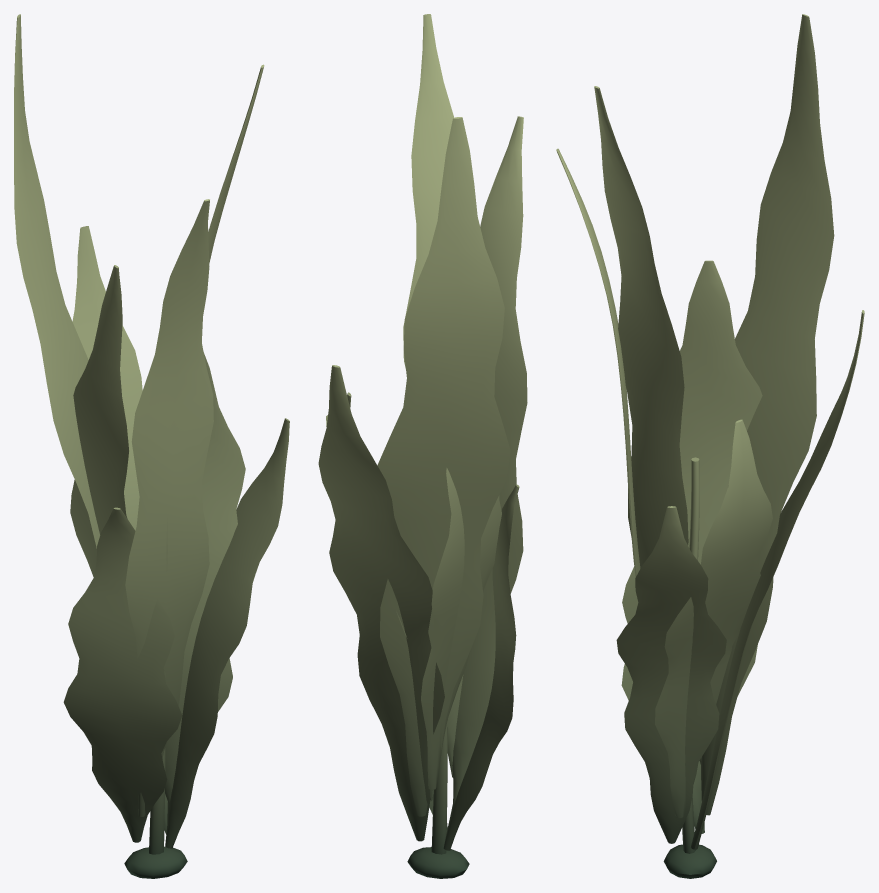
Rendered from kelp.glb.
3 views of the same model, side by side, from view 1: azimuth 30°, elevation 25°; view 2: azimuth 150°, elevation 25°; view 3: azimuth 270°, elevation 25° (orthographic). The views are drawn at different scales.
Visible parts, largest first — view 1: Pelagic.kelp.Surface; view 2: Pelagic.kelp.Surface; view 3: Pelagic.kelp.Surface.
Part boxes in pixels (x1,y1,x2,y2): Pelagic.kelp.Surface: [14, 14, 289, 878]; Pelagic.kelp.Surface: [318, 14, 527, 878]; Pelagic.kelp.Surface: [556, 14, 864, 878].
Bounding box in the file's own units: 0.6062 × 2.13 × 0.7276.
